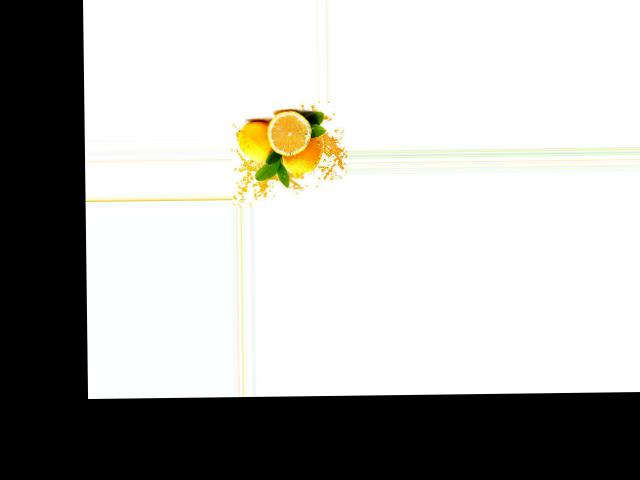lemon: (238, 119, 281, 166)
